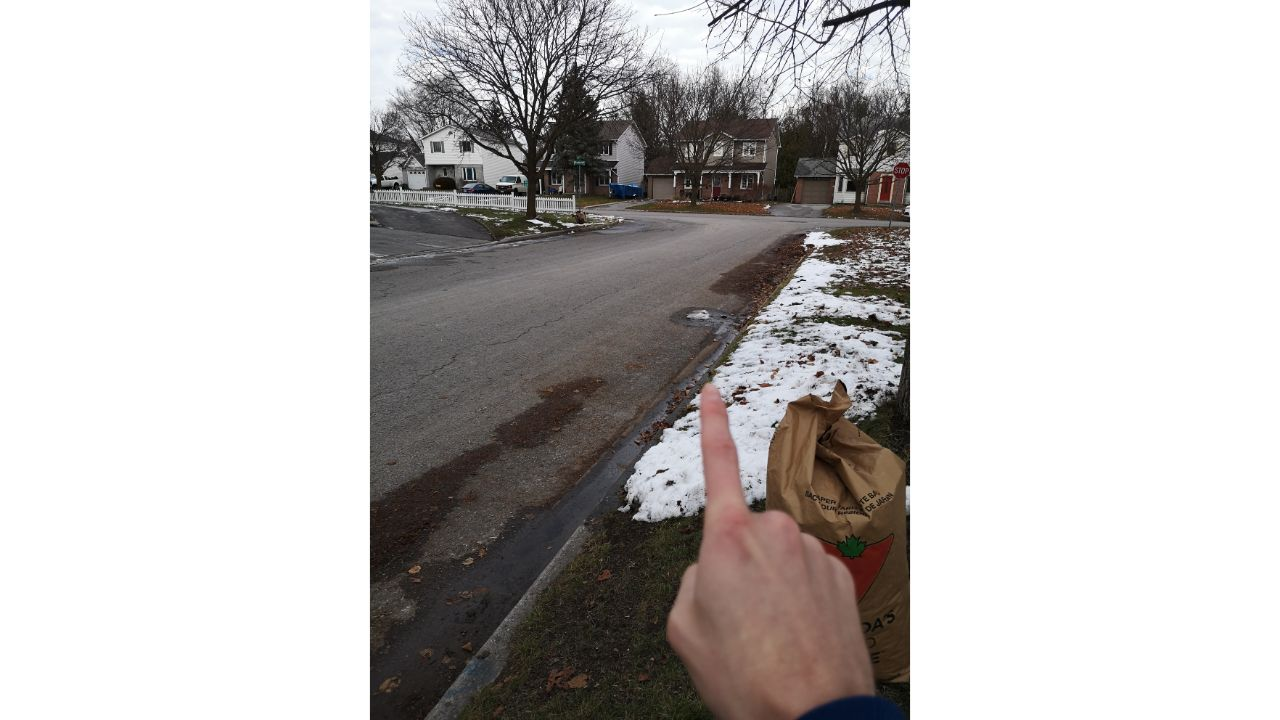finger: (662, 379, 882, 720)
